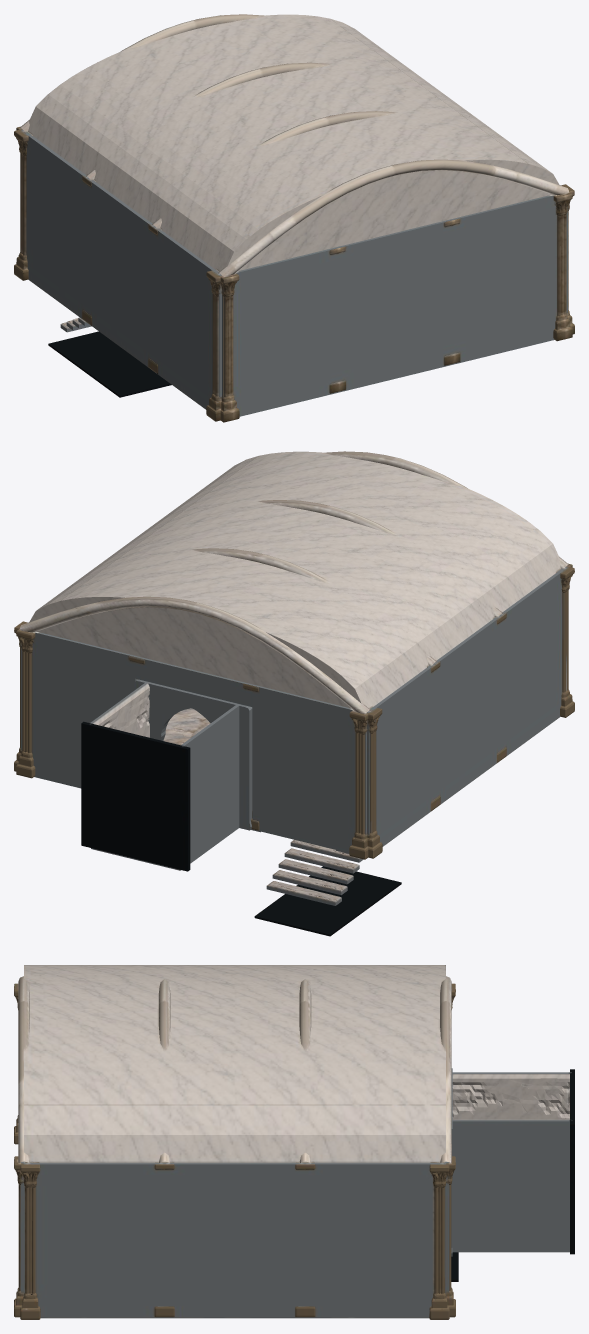
Rendered from room.glb.
The picture shows the model from 3 angles, top to bottom: view 1: azimuth 30°, elevation 25°; view 2: azimuth 150°, elevation 25°; view 3: azimuth 270°, elevation 25°; orthographic projection. The views are drawn at different scales.
Parts seen in each view (by area): view 1: STAIRWAY-TOP; view 2: STAIRWAY-TOP; view 3: STAIRWAY-TOP.
Boxes of the visible parts, bbox=[...] form: STAIRWAY-TOP: bbox=[14, 14, 574, 422]; STAIRWAY-TOP: bbox=[14, 451, 574, 936]; STAIRWAY-TOP: bbox=[14, 965, 574, 1319].
Bounding box in the file's own units: 10.48 × 8.22 × 13.3.
1 material, 1 textured.
